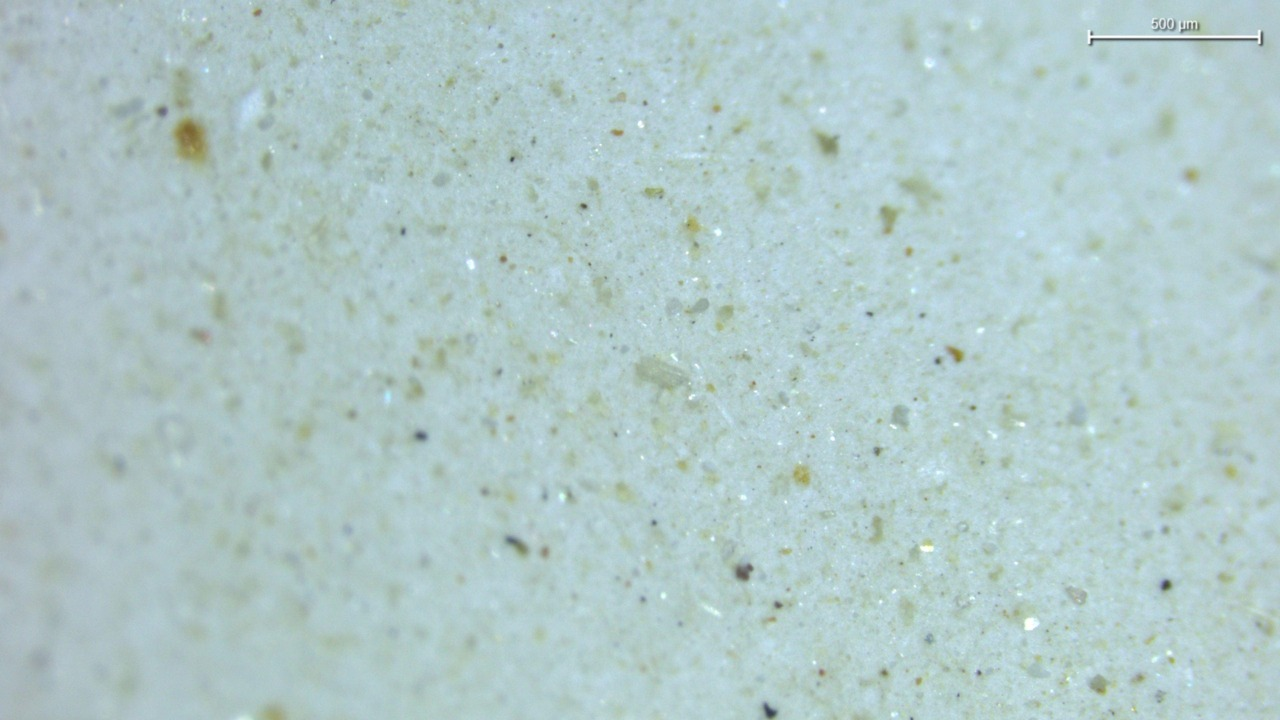microplastic_fragment: (636, 356, 690, 389)
